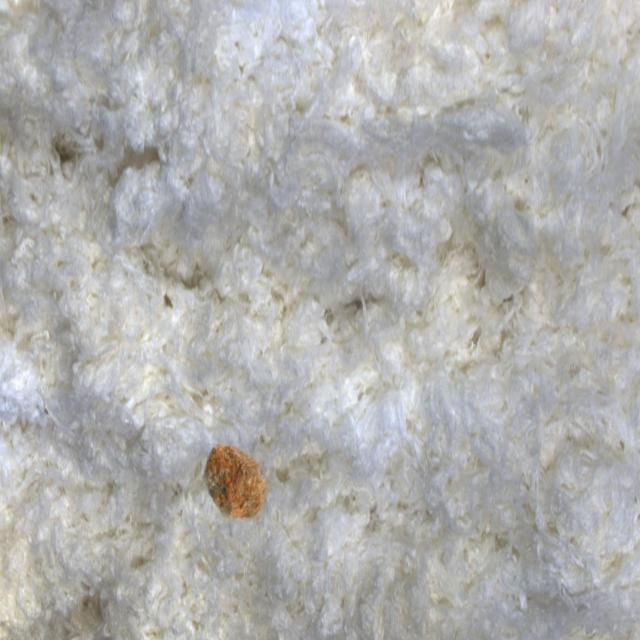dust: (178, 410, 303, 556)
